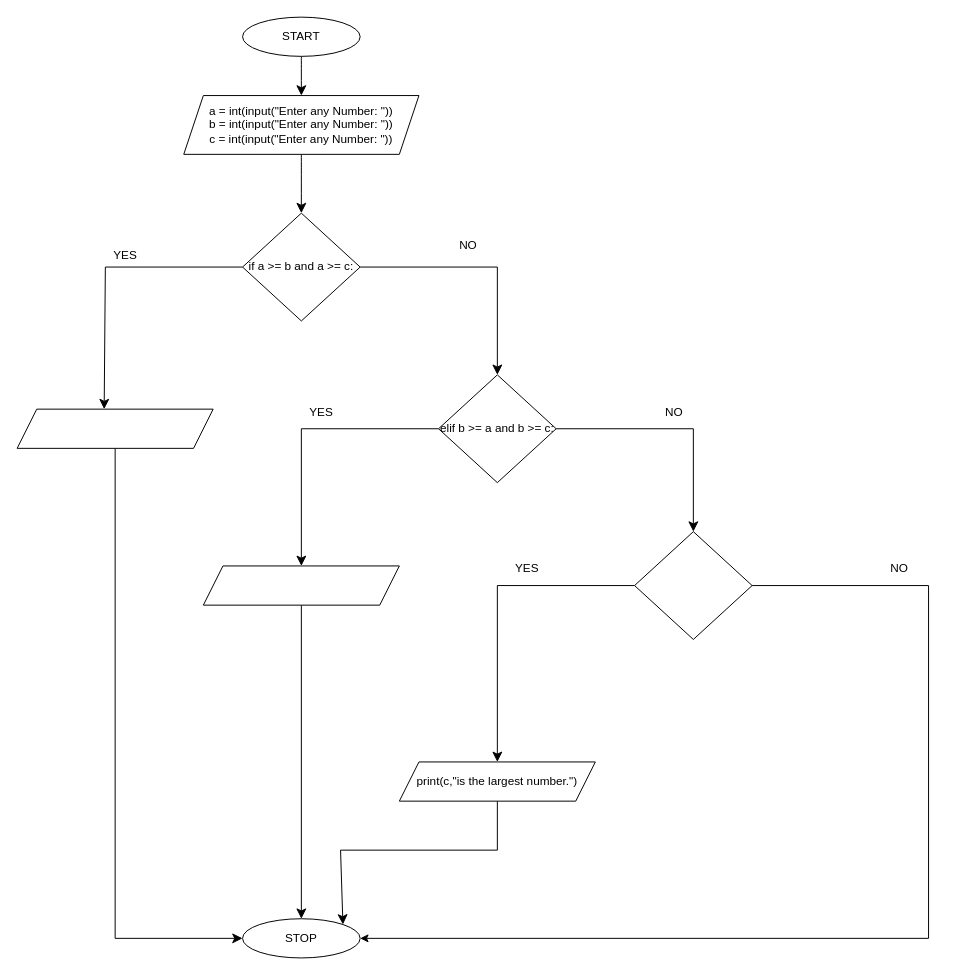
This 954x975 diagram has some shape labels left out. Each missing label, with the box of its shape:
elif c >= a and c >= b:: (634, 531, 752, 639)
print(a,"is the largest number."): (16, 408, 213, 448)
print(b,"is the largest number."): (202, 565, 399, 605)
